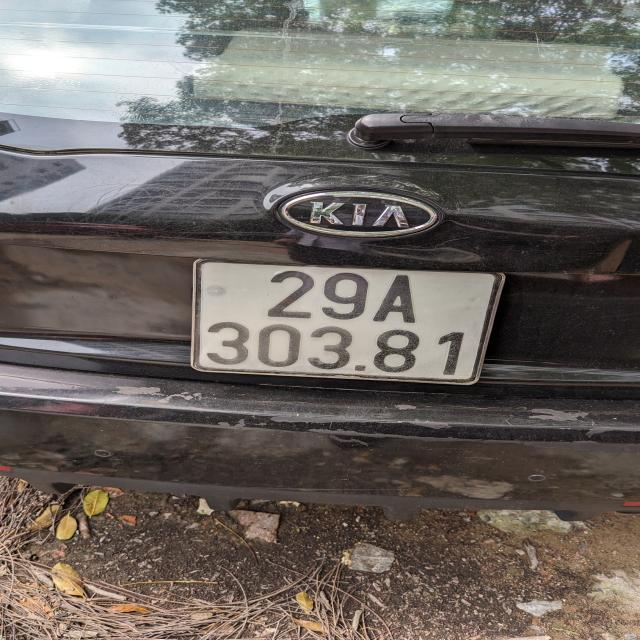license: (189, 256, 505, 385)
